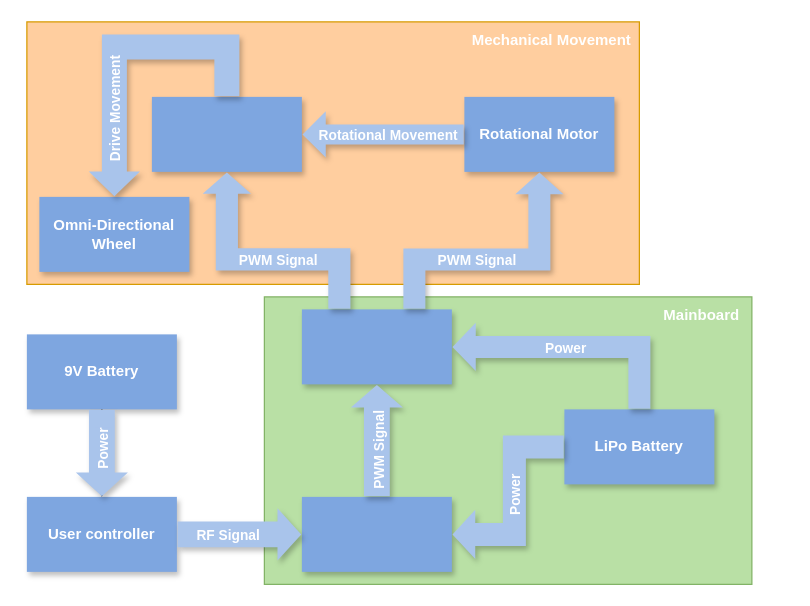
Some shapes in this 810 by 606 pixel diagram are drawn without their labels. The centre of each missing label's shape, as x and y in pixels:
Main Drive motor: (227,135)
Microcontroller (Arduino): (377,535)
Motor Controller: (377,348)
